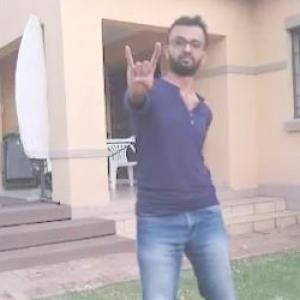takeoff-hand: (118, 34, 166, 106)
